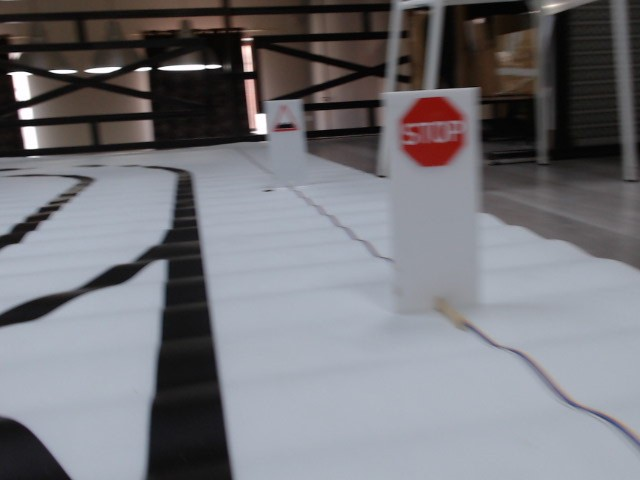Nerov: (270, 104, 301, 135)
Stop: (397, 97, 467, 167)
